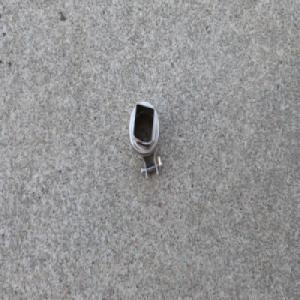MetalPart: (127, 100, 163, 186)
